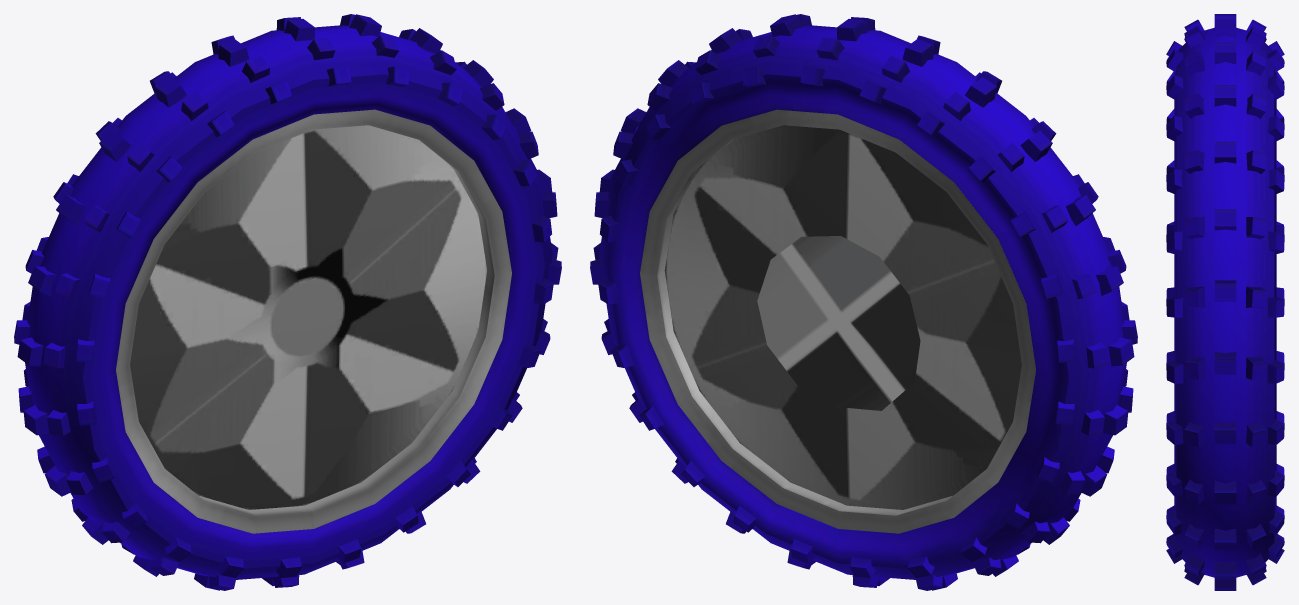
Rendered from WheelF_Husky.fbx.
3 views of the same model, side by side, from view 1: azimuth 30°, elevation 25°; view 2: azimuth 150°, elevation 25°; view 3: azimuth 270°, elevation 25° (orthographic). The views are drawn at different scales.
Visible parts, largest first — view 1: Husky_wheelF.001; view 2: Husky_wheelF.001; view 3: Husky_wheelF.001.
Boxes of the visible parts, left/top/right/bottom form: Husky_wheelF.001: left=14, top=14, right=561, bottom=590; Husky_wheelF.001: left=590, top=14, right=1137, bottom=590; Husky_wheelF.001: left=1166, top=14, right=1284, bottom=590.
Bounding box in the file's own units: 54.21 × 54.21 × 11.11.
